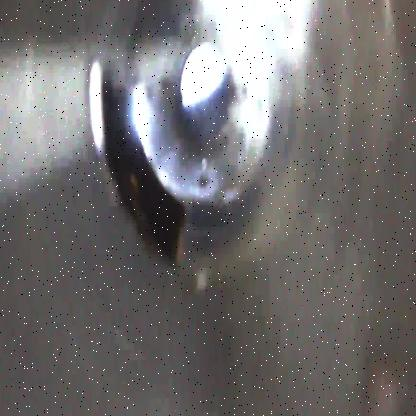Crack2: (82, 60, 186, 274)
